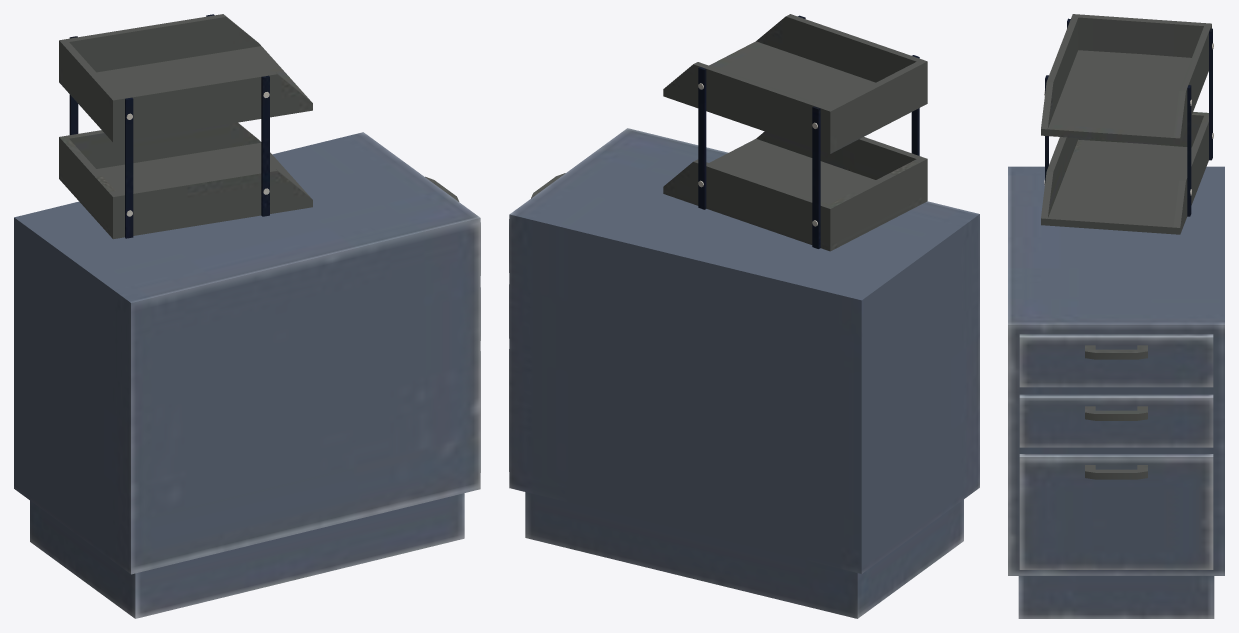
Rendered from SM_OfficeDrawer.glb.
3 views of the same model, side by side, from view 1: azimuth 30°, elevation 25°; view 2: azimuth 150°, elevation 25°; view 3: azimuth 270°, elevation 25° (orthographic). The views are drawn at different scales.
Parts seen in each view (by area): view 1: SM_OfficeDrawer; view 2: SM_OfficeDrawer; view 3: SM_OfficeDrawer.
Boxes of the visible parts, bbox=[...] form: SM_OfficeDrawer: bbox=[14, 14, 480, 618]; SM_OfficeDrawer: bbox=[509, 14, 979, 618]; SM_OfficeDrawer: bbox=[1008, 14, 1224, 618].
Size of the model in its own units: 1.3 by 1.64 by 0.7039.
2 materials, 2 textured.
